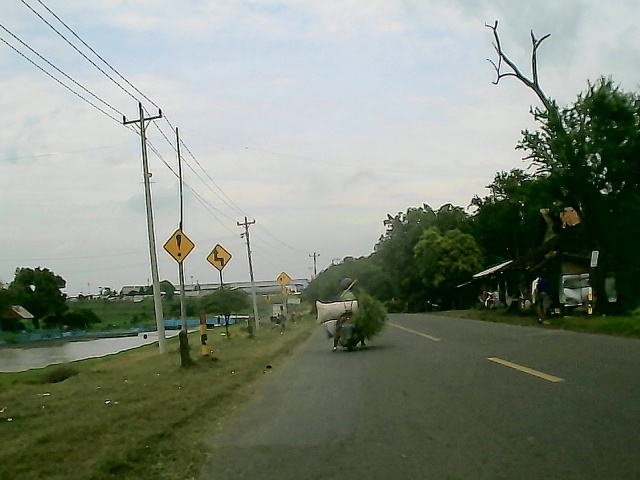Hati-hati: (160, 226, 198, 265)
Peringatan tepi air: (274, 270, 294, 289)
Tikungan garda pertama kiri: (204, 241, 234, 273)
